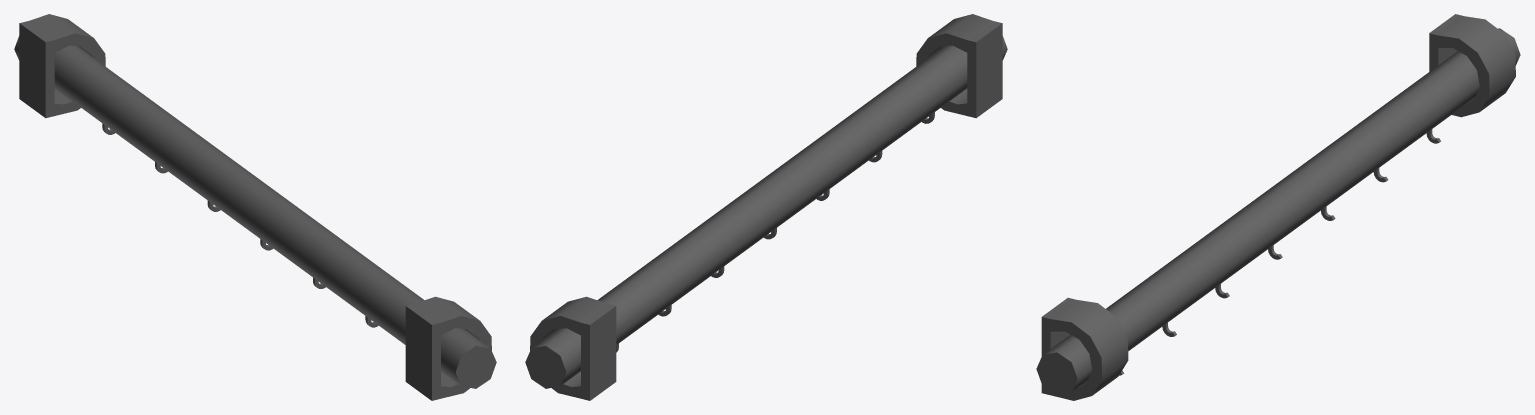
The model's file is rack.glb.
3 renders of one model, left to right at view 1: azimuth 30°, elevation 25°; view 2: azimuth 150°, elevation 25°; view 3: azimuth 330°, elevation 25°, orthographic.
Visible parts, largest first — view 1: rack; view 2: rack; view 3: rack.
Boxes of the visible parts, x1,y1,x2,y2 form: rack: (14,14,496,400); rack: (525,14,1007,400); rack: (1036,14,1520,400).
Bounding box in the file's own units: 0.0631 × 0.0806 × 0.8.
Materials: 1 (1 with a texture image).
